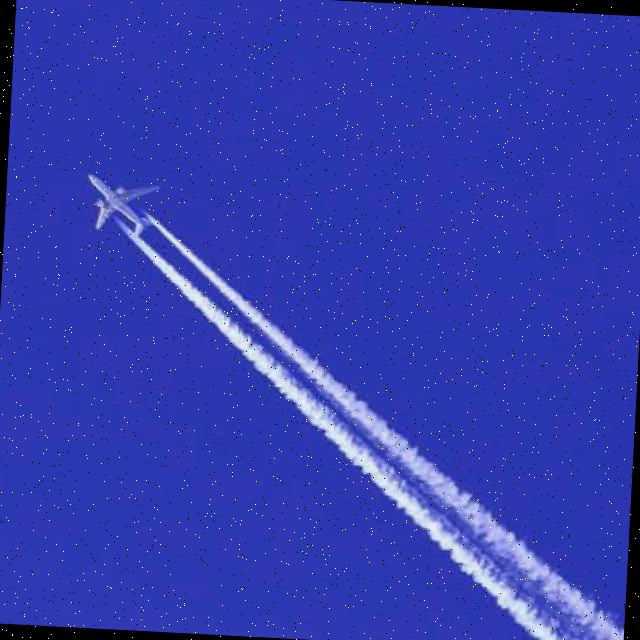Ct: (1, 124, 640, 640)
